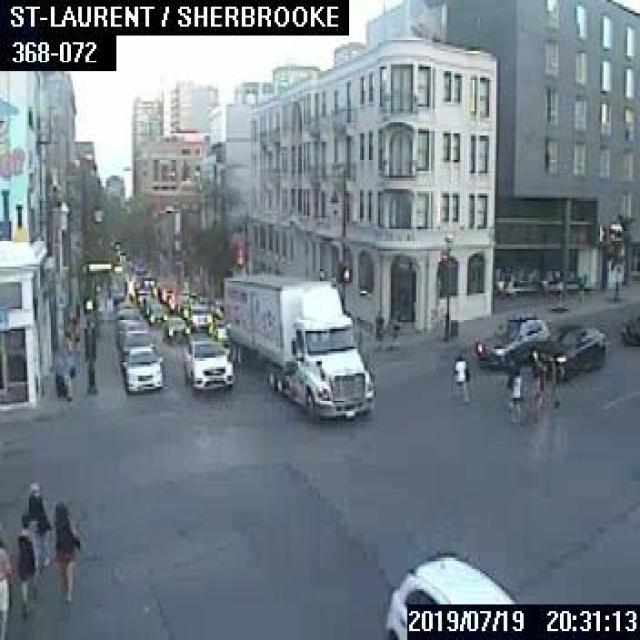construction: (64, 372, 73, 400)
pedestrian: (52, 499, 79, 600), (24, 481, 50, 564), (14, 518, 35, 616), (505, 358, 522, 424), (0, 536, 11, 638), (451, 353, 465, 402), (372, 306, 383, 338)
vehicle: (221, 272, 375, 416), (380, 553, 515, 638), (472, 313, 550, 367), (529, 323, 603, 379), (182, 332, 232, 391), (120, 343, 163, 390), (118, 328, 156, 364), (162, 315, 188, 343), (619, 309, 638, 346), (187, 302, 211, 330), (210, 318, 225, 340)
